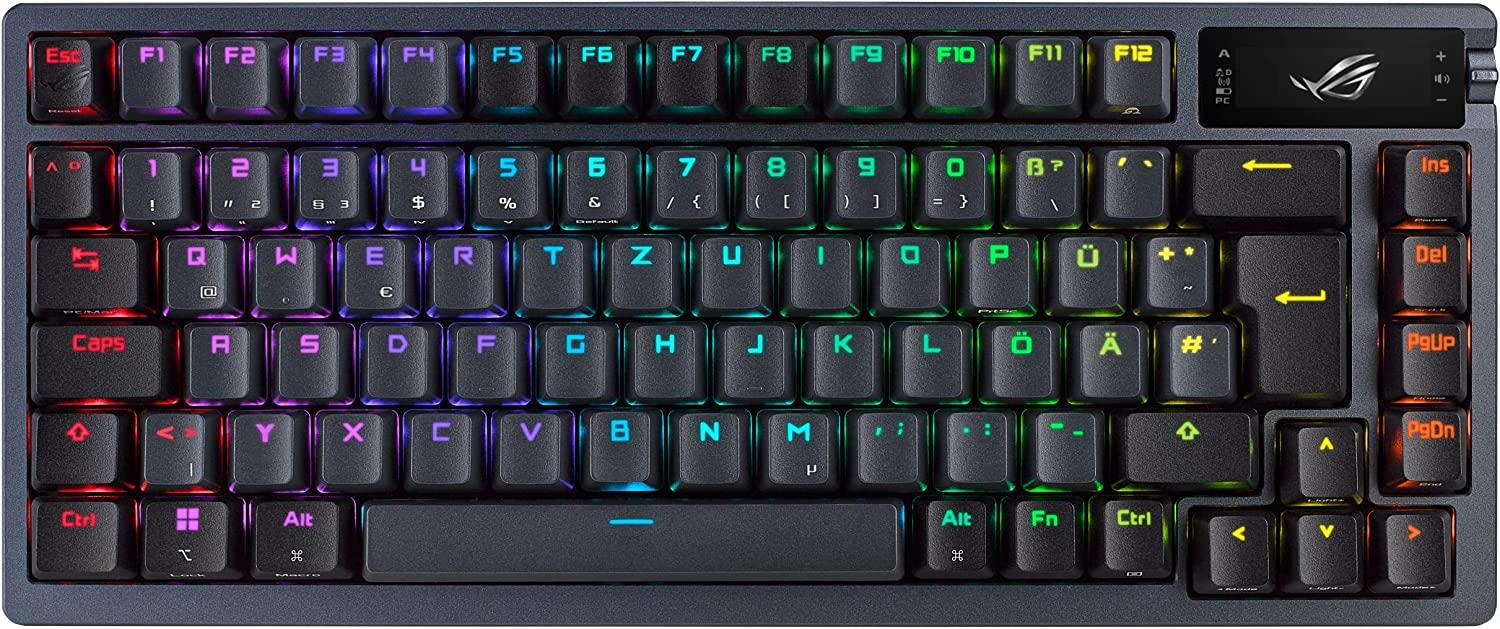0: (919, 148, 988, 222)
1: (119, 146, 184, 221)
2: (201, 147, 277, 226)
3: (293, 147, 369, 226)
4: (381, 146, 457, 225)
5: (468, 146, 544, 225)
6: (560, 146, 636, 225)
7: (649, 143, 725, 222)
8: (738, 143, 813, 223)
9: (828, 143, 903, 223)
a: (184, 320, 254, 400)
accent: (1099, 144, 1167, 219)
ae: (1075, 319, 1145, 398)
alt-left: (250, 494, 343, 576)
altgr-right: (923, 494, 993, 575)
b: (584, 406, 656, 483)
c: (406, 406, 475, 484)
caret: (28, 141, 92, 220)
comma: (853, 406, 921, 484)
d: (360, 318, 433, 398)
del: (1186, 140, 1344, 219)
e: (340, 231, 409, 310)
enter: (1229, 228, 1350, 400)
f: (449, 318, 522, 398)
g: (537, 318, 614, 399)
h: (626, 318, 704, 399)
hash: (1162, 317, 1233, 397)
i: (784, 231, 855, 309)
j: (714, 317, 792, 398)
k: (804, 318, 881, 399)
keyboard: (1, 3, 1499, 626)
l: (893, 318, 968, 398)
less: (141, 407, 207, 484)
m: (761, 406, 835, 487)
minus: (1032, 407, 1101, 484)
n: (672, 407, 746, 484)
o: (873, 231, 946, 309)
oe: (983, 318, 1058, 399)
p: (964, 231, 1033, 308)
plus: (1141, 230, 1211, 309)
point: (943, 407, 1011, 484)
q: (162, 231, 232, 312)
r: (428, 232, 498, 309)
s: (273, 318, 344, 398)
shift-left: (32, 407, 120, 485)
shift-lock: (32, 320, 166, 398)
shift-right: (1120, 406, 1255, 484)
space: (355, 496, 909, 580)
ss: (1011, 146, 1080, 220)
strg-left: (30, 495, 120, 575)
strg-right: (1098, 494, 1171, 575)
t: (518, 232, 588, 309)
tab: (32, 232, 141, 309)
u: (694, 230, 769, 310)
ue: (1052, 230, 1123, 310)
v: (495, 407, 565, 484)
w: (251, 233, 320, 312)
x: (317, 406, 387, 485)
y: (229, 407, 298, 484)
z: (605, 231, 678, 310)
